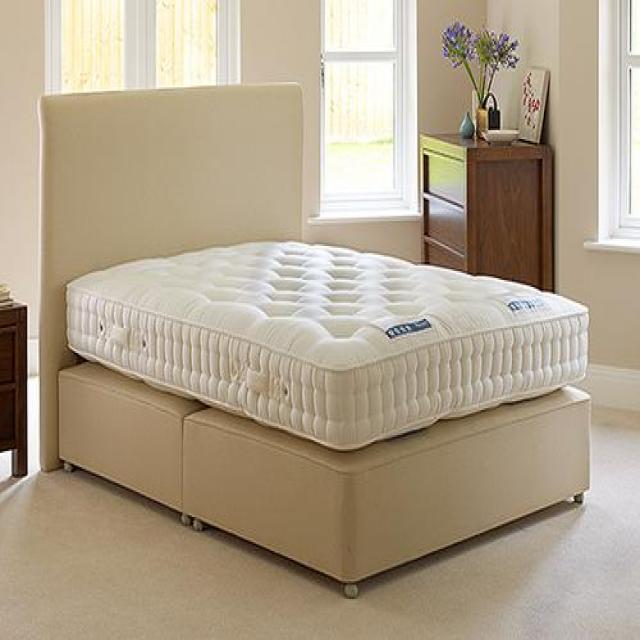bed: (35, 80, 592, 599)
